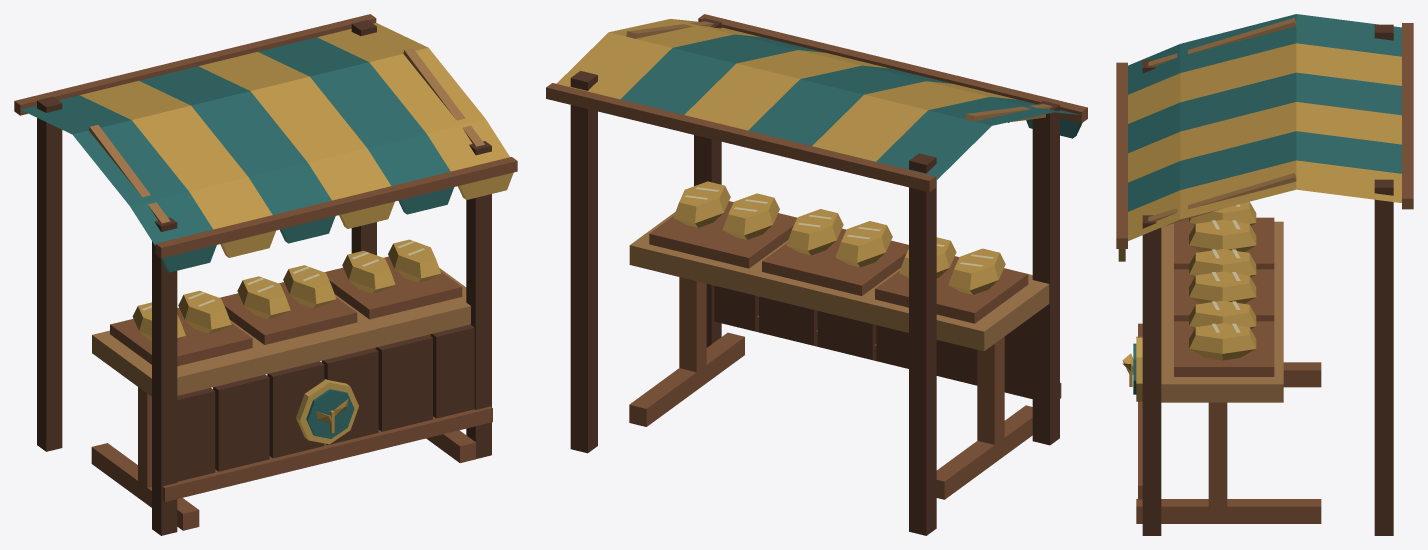
The model's file is market-stall-a.glb.
3 views of the same model, side by side, from view 1: azimuth 30°, elevation 25°; view 2: azimuth 150°, elevation 25°; view 3: azimuth 270°, elevation 25° (orthographic). The views are drawn at different scales.
Visible parts, largest first — view 1: market-stall-a; view 2: market-stall-a; view 3: market-stall-a.
Part boxes in pixels (box(x1,y1,x2,y2)): market-stall-a: box(14, 14, 517, 535); market-stall-a: box(546, 14, 1087, 535); market-stall-a: box(1116, 14, 1413, 535).
Bounding box in the file's own units: 2.65 × 2.51 × 1.89.
